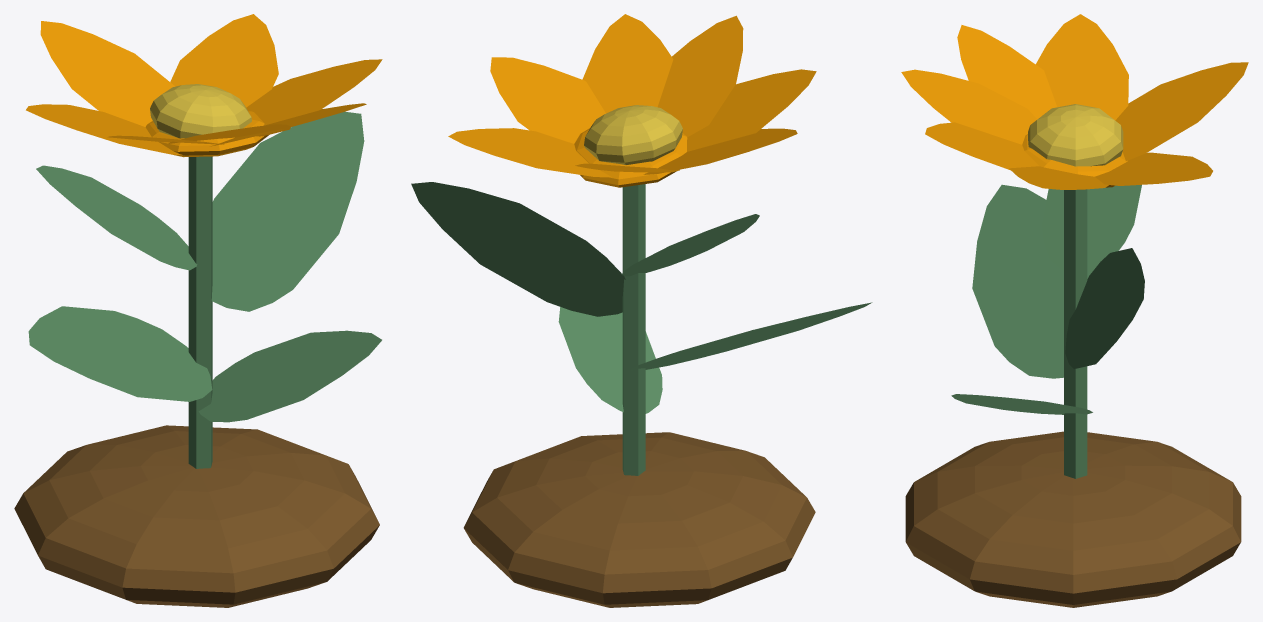
Rendered from Plant_4.fbx.
The picture shows the model from 3 angles, left to right: view 1: azimuth 30°, elevation 25°; view 2: azimuth 150°, elevation 25°; view 3: azimuth 270°, elevation 25°; orthographic projection. The views are drawn at different scales.
Parts seen in each view (by area): view 1: Plant4, pPlane3, pPlane4, pPlane6, pPlane8, pCylinder9, pPlane9, pPlane5, Bud, pPlane10, pPlane7, Bud1 (+2 smaller); view 2: Plant4, pPlane3, pCylinder9, pPlane12, pPlane10, pPlane11, pPlane6, pPlane13, Bud, pPlane9, pPlane4, pPlane5 (+2 smaller); view 3: Plant4, pPlane4, pPlane7, pPlane8, pPlane3, pCylinder9, pPlane12, pPlane5, Bud, pPlane13, pPlane9, pPlane11 (+3 smaller).
Boxes of the visible parts, bbox=[...] form: Plant4: bbox=[14, 425, 379, 607]; pPlane3: bbox=[211, 111, 364, 311]; pPlane4: bbox=[28, 306, 212, 401]; pPlane6: bbox=[198, 330, 381, 422]; pPlane8: bbox=[40, 21, 174, 126]; pCylinder9: bbox=[188, 156, 212, 468]; pPlane9: bbox=[170, 14, 278, 107]; pPlane5: bbox=[36, 165, 197, 270]; Bud: bbox=[150, 84, 251, 138]; pPlane10: bbox=[246, 59, 382, 136]; pPlane7: bbox=[26, 104, 182, 155]; Bud1: bbox=[145, 110, 269, 157]; Plant4: bbox=[463, 432, 815, 607]; pPlane3: bbox=[411, 182, 625, 316]; pCylinder9: bbox=[622, 184, 645, 475]; pPlane12: bbox=[657, 15, 743, 137]; pPlane10: bbox=[490, 57, 605, 143]; pPlane11: bbox=[582, 14, 673, 113]; pPlane6: bbox=[558, 307, 662, 413]; pPlane13: bbox=[687, 69, 816, 151]; Bud: bbox=[584, 105, 682, 164]; pPlane9: bbox=[448, 128, 611, 177]; pPlane4: bbox=[631, 302, 872, 370]; pPlane5: bbox=[621, 214, 759, 276]; Plant4: bbox=[905, 431, 1241, 607]; pPlane4: bbox=[972, 184, 1091, 378]; pPlane7: bbox=[1035, 14, 1128, 120]; pPlane8: bbox=[1115, 62, 1248, 161]; pPlane3: bbox=[1065, 248, 1144, 368]; pCylinder9: bbox=[1064, 189, 1087, 478]; pPlane12: bbox=[901, 69, 1036, 144]; pPlane5: bbox=[1041, 185, 1141, 273]; Bud: bbox=[1028, 104, 1123, 166]; pPlane13: bbox=[957, 25, 1056, 119]; pPlane9: bbox=[1095, 152, 1212, 185]; pPlane11: bbox=[925, 122, 1039, 170].
Bounding box in the file's own units: 0.6868 × 0.8276 × 0.5316.
